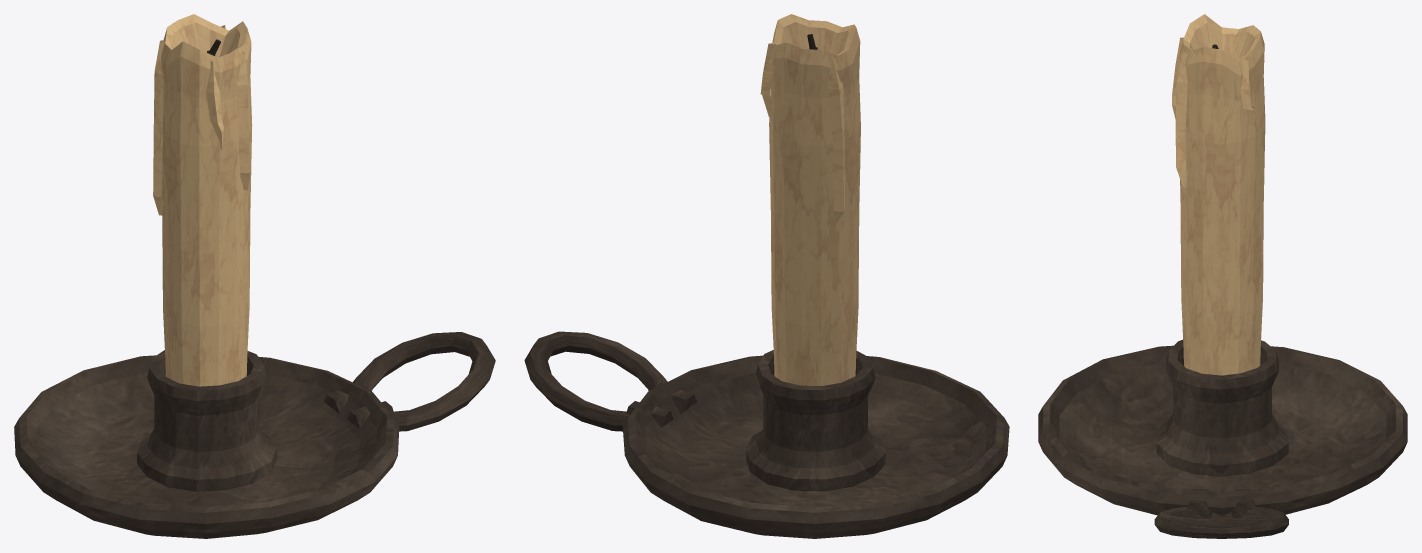
File: Vela-com-Castical.glb
3 renders of one model, left to right at view 1: azimuth 30°, elevation 25°; view 2: azimuth 150°, elevation 25°; view 3: azimuth 270°, elevation 25°, orthographic. The views are drawn at different scales.
Visible parts, largest first — view 1: Prato do castiçal, Corpo da vela, Soquete, Alça de dedo, Cera escorrida, Encaixe da alça; view 2: Prato do castiçal, Corpo da vela, Soquete, Alça de dedo, Cera escorrida, Encaixe da alça; view 3: Prato do castiçal, Corpo da vela, Soquete, Alça de dedo, Cera escorrida, Encaixe da alça.
Boxes of the visible parts, x1,y1,x2,y2 form: Prato do castiçal: (14,355,399,538); Corpo da vela: (161,14,252,386); Soquete: (137,350,276,491); Alça de dedo: (352,332,495,431); Cera escorrida: (153,25,250,215); Encaixe da alça: (324,383,394,428); Prato do castiçal: (622,355,1009,538); Corpo da vela: (769,14,860,385); Soquete: (746,350,885,491); Alça de dedo: (524,331,667,431); Cera escorrida: (760,42,844,230); Encaixe da alça: (626,383,696,427); Prato do castiçal: (1038,345,1407,516); Corpo da vela: (1179,14,1265,375); Soquete: (1156,339,1288,476); Alça de dedo: (1154,507,1288,538); Cera escorrida: (1172,37,1254,187); Encaixe da alça: (1187,489,1256,518).
Size of the model in its own units: 0.2069 by 0.205 by 0.1537.
3 materials, 3 textured.
